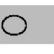no answer: (0, 11, 28, 37)
